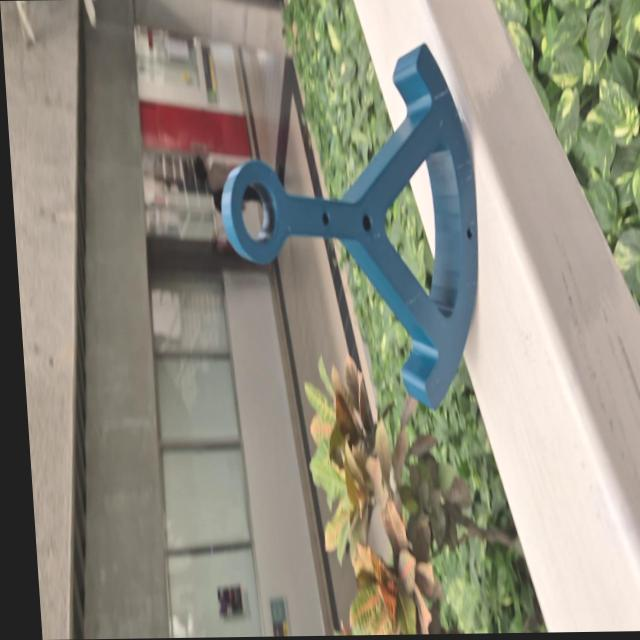haptic: (208, 40, 491, 415)
